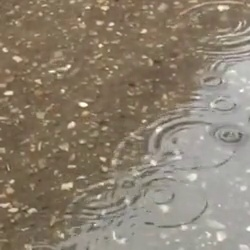drop: (154, 115, 236, 172), (176, 1, 250, 62), (136, 174, 206, 227), (48, 55, 75, 76), (215, 125, 243, 145), (152, 187, 175, 206), (211, 96, 237, 112), (199, 76, 224, 87)
